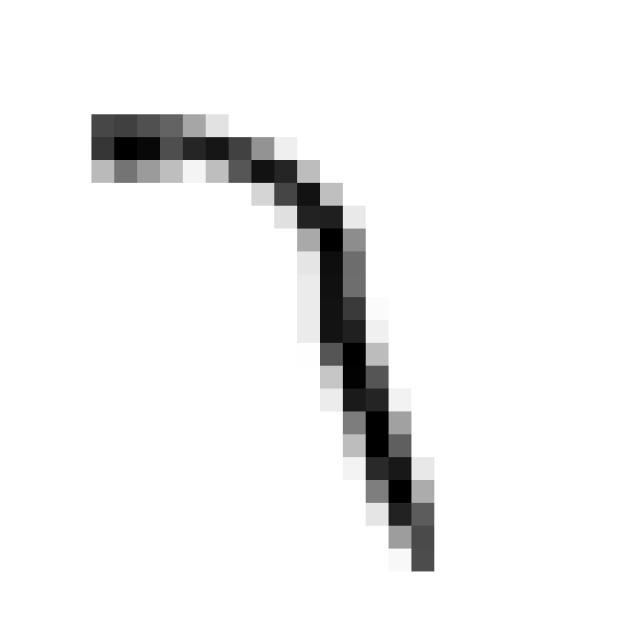6 -six-: (66, 89, 456, 588)
